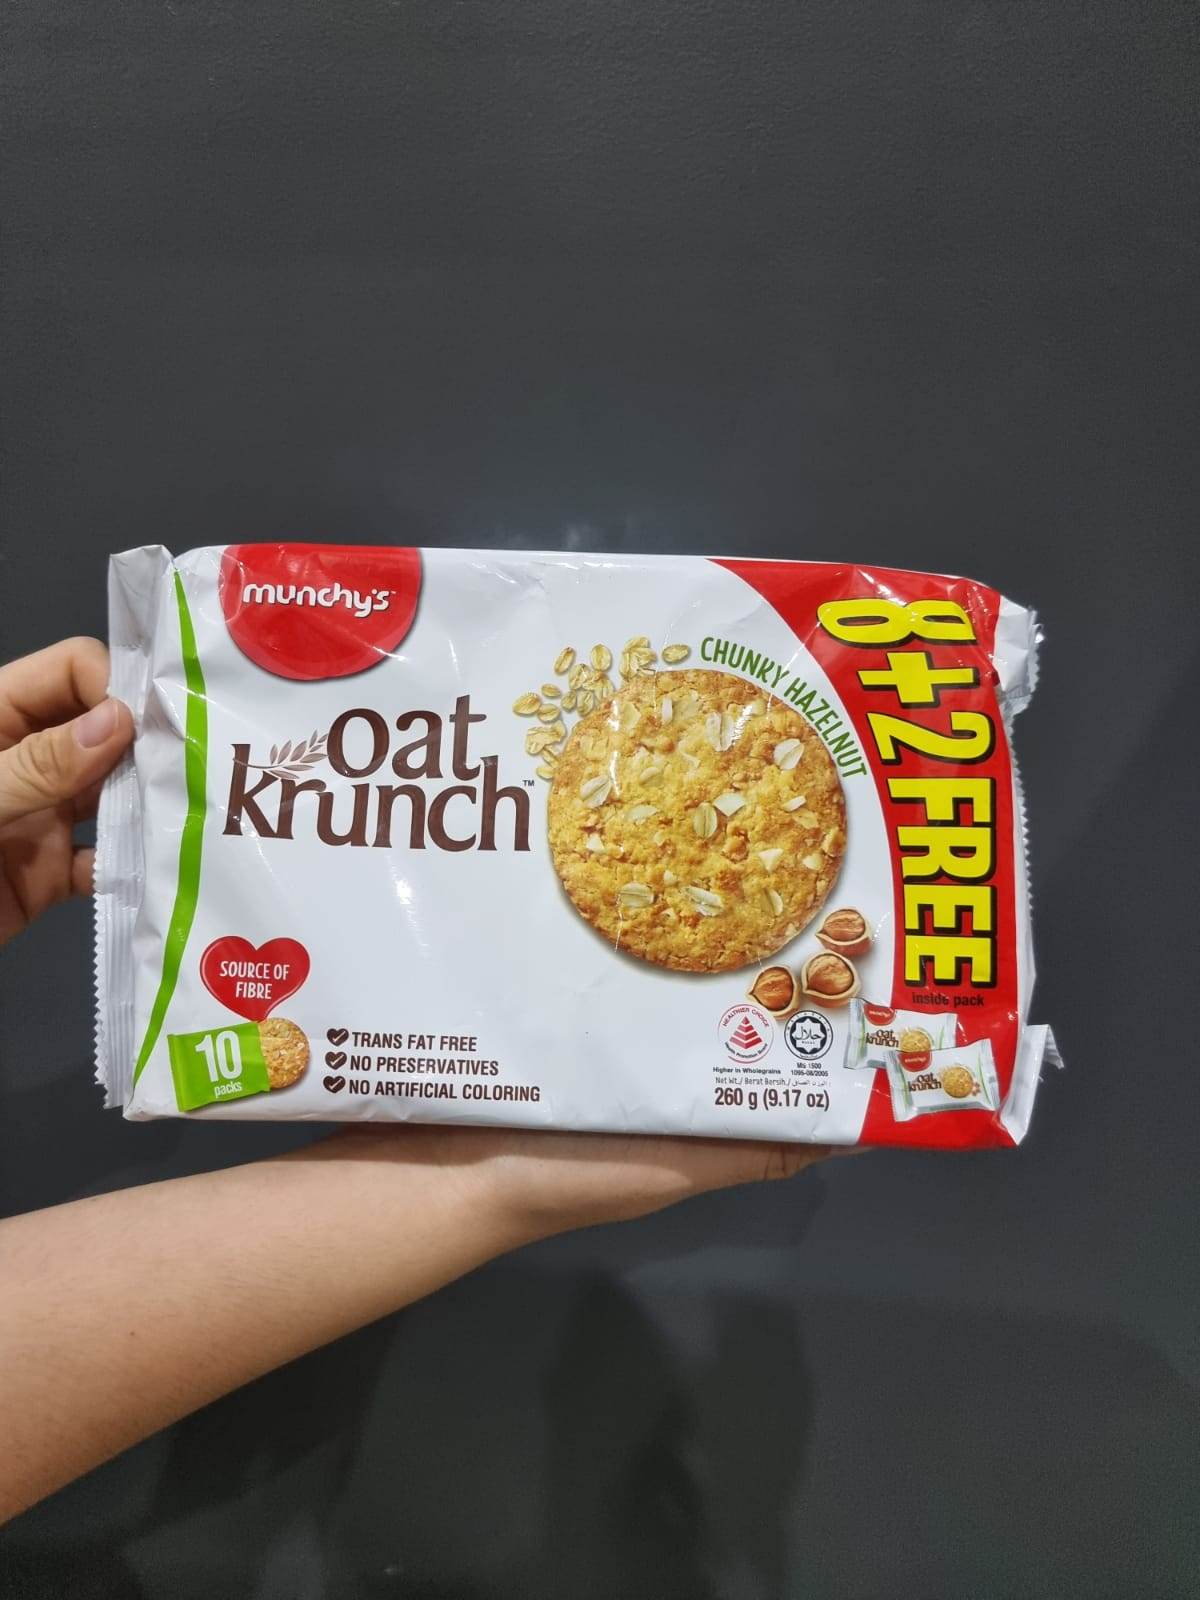Halal: (787, 1013, 833, 1058)
